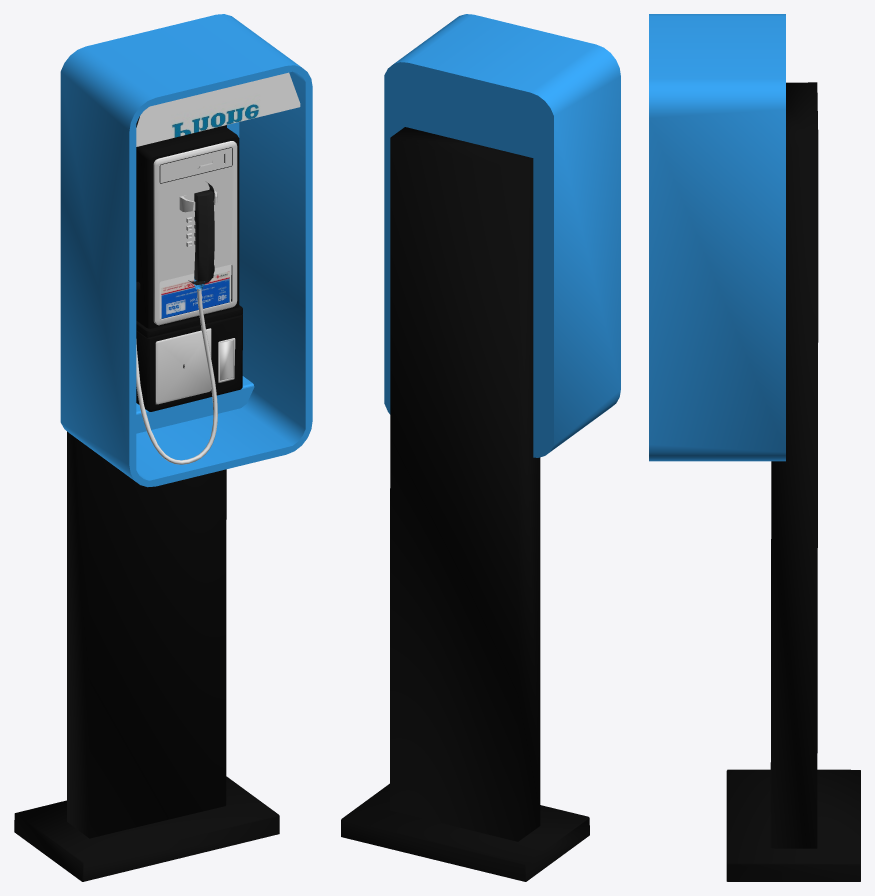
File: payphone.glb
The picture shows the model from 3 angles, left to right: view 1: azimuth 30°, elevation 25°; view 2: azimuth 150°, elevation 25°; view 3: azimuth 270°, elevation 25°; orthographic projection. The views are drawn at different scales.
Visible parts, largest first — view 1: body; view 2: body; view 3: body.
Part boxes in pixels (x1,y1,x2,y2): body: (14,14,312,881); body: (341,14,620,881); body: (649,14,860,881).
Size of the model in its own units: 0.565 by 2.2 by 0.5367.
Materials: 1 (1 with a texture image).
